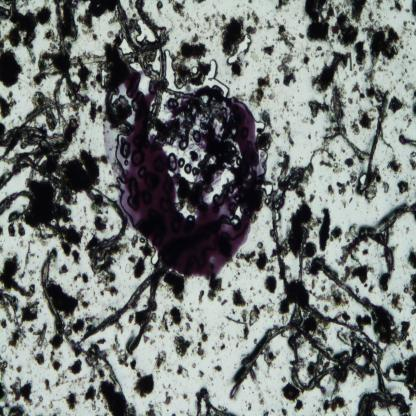Air bubble: (200, 58, 230, 92)
Background material: (16, 150, 100, 252), (0, 250, 38, 352), (287, 193, 314, 320), (268, 139, 317, 202), (0, 1, 55, 49), (170, 35, 211, 86), (88, 232, 120, 296), (308, 50, 356, 92), (360, 22, 405, 66), (330, 0, 367, 50), (372, 308, 414, 351), (77, 0, 119, 39), (236, 299, 277, 338), (96, 376, 138, 414), (72, 67, 108, 109), (277, 23, 299, 87), (48, 278, 86, 315), (387, 351, 416, 399), (0, 376, 35, 415), (234, 242, 275, 274), (195, 385, 237, 415), (317, 128, 342, 173), (55, 0, 81, 43), (310, 282, 346, 312), (92, 336, 128, 365), (402, 247, 416, 318), (127, 242, 153, 280), (128, 233, 152, 274), (130, 358, 154, 398), (221, 13, 243, 56), (28, 323, 48, 367), (0, 49, 23, 87), (163, 266, 186, 304), (88, 204, 113, 238), (250, 73, 275, 106), (159, 305, 184, 336), (205, 275, 230, 305), (48, 330, 65, 372), (282, 381, 304, 412), (67, 79, 86, 113), (179, 16, 201, 44), (366, 164, 382, 202), (352, 39, 368, 73), (0, 92, 19, 119), (307, 96, 330, 118), (262, 346, 280, 374), (321, 394, 349, 412), (62, 389, 82, 414), (203, 11, 221, 38), (0, 220, 27, 238), (364, 66, 377, 100), (403, 83, 416, 117), (0, 356, 23, 375), (245, 10, 261, 36), (282, 119, 296, 148), (387, 94, 406, 115), (173, 334, 191, 356), (88, 100, 104, 124), (386, 153, 403, 175), (232, 286, 248, 309), (388, 290, 403, 314), (357, 108, 374, 129), (263, 274, 279, 296), (52, 370, 71, 388), (67, 360, 86, 378), (84, 385, 97, 411), (86, 366, 104, 384), (154, 349, 168, 372), (260, 110, 273, 134), (169, 0, 185, 18), (69, 247, 82, 269), (281, 100, 297, 117), (355, 312, 372, 328), (70, 321, 86, 338), (145, 399, 162, 415), (401, 19, 416, 37), (397, 133, 416, 147), (73, 270, 90, 285), (330, 226, 344, 244), (336, 180, 350, 197), (333, 310, 352, 322), (175, 364, 190, 379), (260, 43, 276, 57), (348, 118, 360, 136), (396, 180, 411, 194), (185, 312, 195, 333), (195, 341, 206, 360), (273, 0, 289, 13), (388, 0, 404, 13), (407, 148, 416, 171), (198, 324, 208, 343), (401, 115, 413, 130), (49, 401, 62, 414), (350, 170, 358, 191), (302, 45, 310, 66), (162, 390, 172, 406), (44, 376, 54, 392), (344, 155, 355, 169), (264, 17, 274, 32), (58, 264, 69, 277), (198, 288, 206, 305), (156, 0, 164, 17), (372, 0, 384, 11), (382, 180, 391, 194), (410, 0, 416, 20), (31, 396, 44, 405), (212, 364, 223, 374), (368, 10, 376, 23), (127, 312, 134, 325), (180, 392, 190, 401), (327, 184, 334, 196), (299, 119, 315, 124), (197, 368, 204, 378), (281, 407, 288, 415), (247, 401, 252, 411), (220, 342, 226, 350), (192, 0, 206, 3), (405, 8, 410, 14), (262, 410, 268, 414)
Cellulose filter fibre: (39, 251, 120, 384), (230, 320, 346, 397), (80, 274, 152, 342), (34, 44, 155, 82), (134, 1, 169, 121), (310, 258, 380, 310), (126, 259, 161, 355), (330, 84, 370, 160), (340, 323, 386, 389), (0, 149, 81, 184), (342, 231, 396, 283), (364, 92, 390, 190), (291, 354, 346, 394), (268, 187, 288, 291), (0, 121, 70, 150), (90, 198, 127, 250), (357, 388, 410, 414), (379, 203, 416, 235), (0, 188, 32, 216), (225, 34, 252, 64), (51, 77, 67, 125), (358, 172, 366, 186)
Fragment: (318, 206, 330, 251)
Pen: (104, 72, 265, 276)
